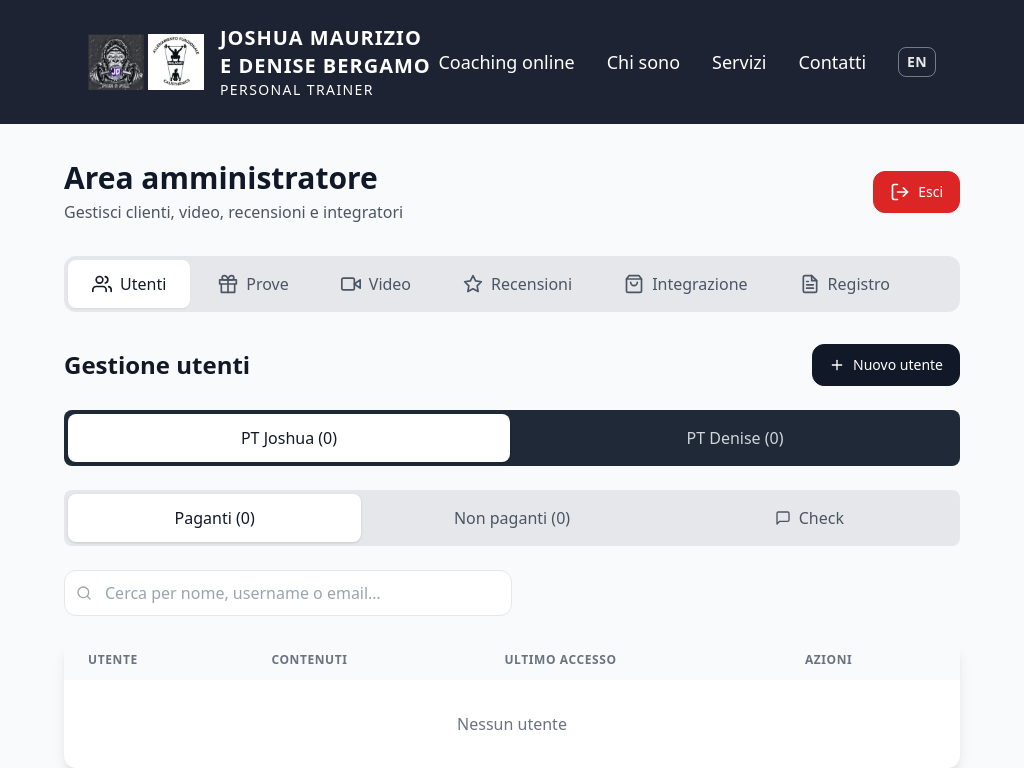
Test: AdminPage — users › creates a user and copies the access link
This screenshot has width=1024, height=768.
Click the button "Nuovo utente" at (886, 365), box [812,344,960,386]
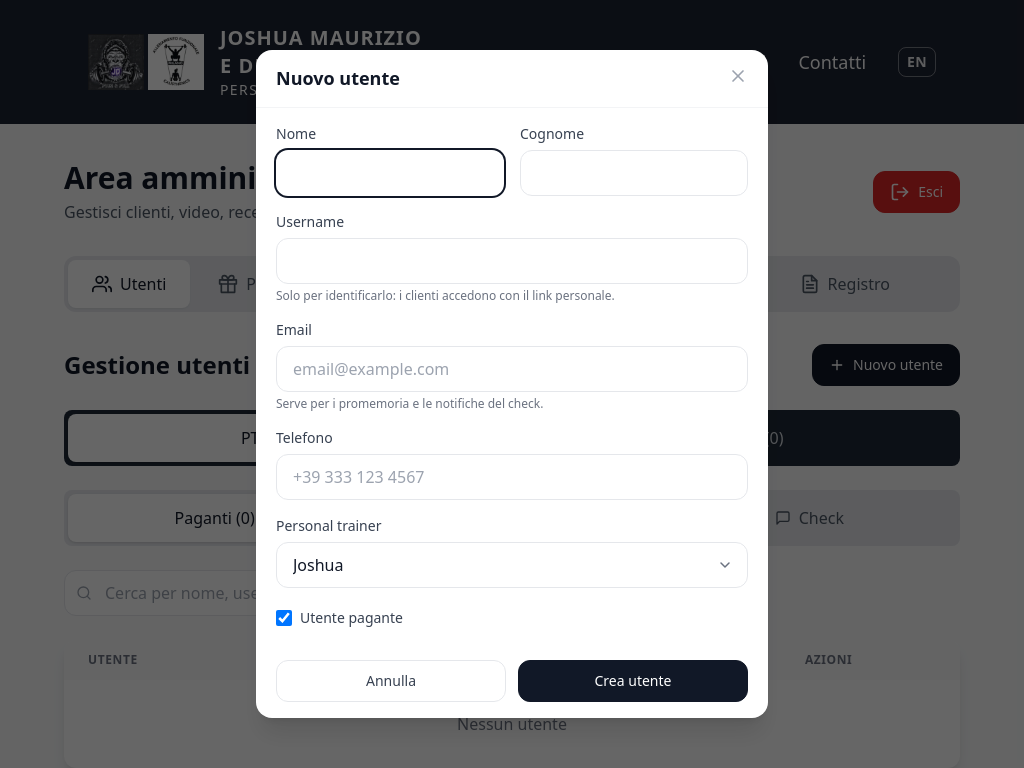
Type " Giulia " into the field labelled "Nome" at (390, 173), box [276,150,504,196]
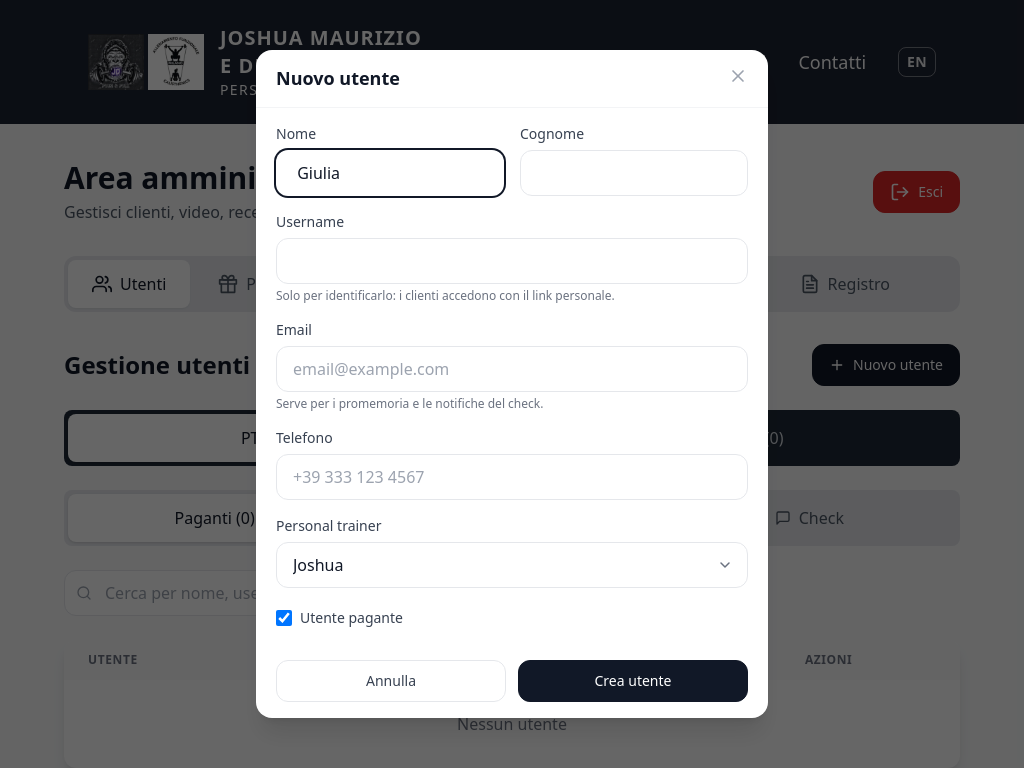
Type "Neri" into the field labelled "Cognome" at (634, 173), box [520,150,748,196]
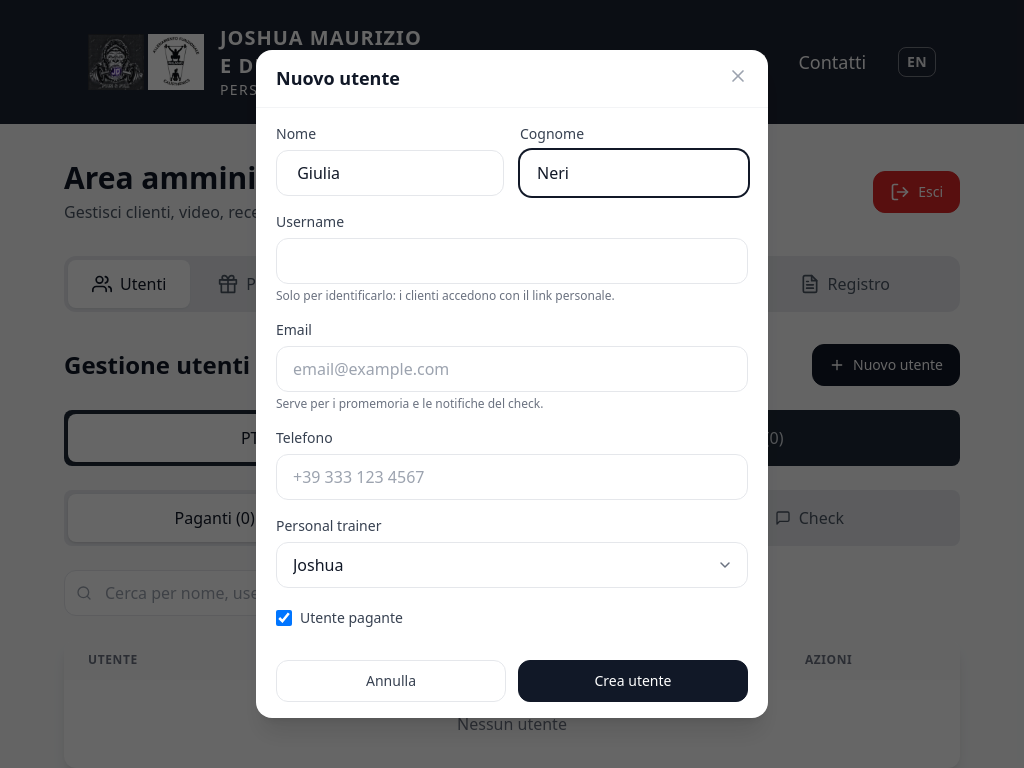
Type "gneri" into the field labelled "Username" at (512, 261), box [276,238,748,284]
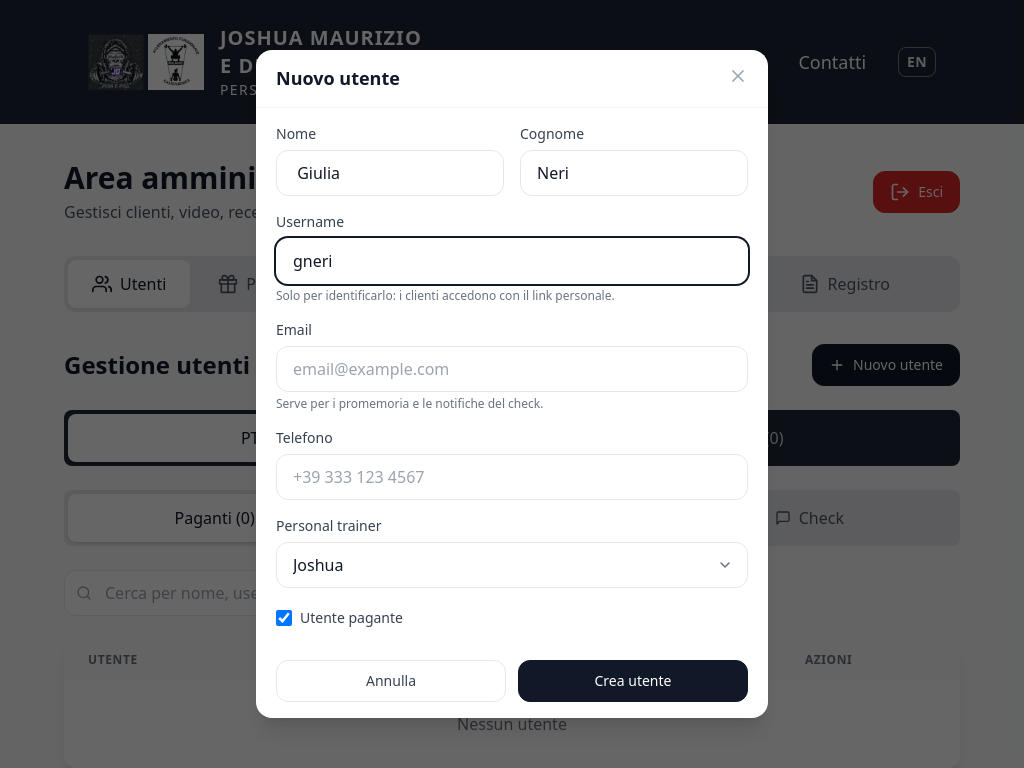
Click the button "Crea utente" at (633, 681), box [518,660,748,702]
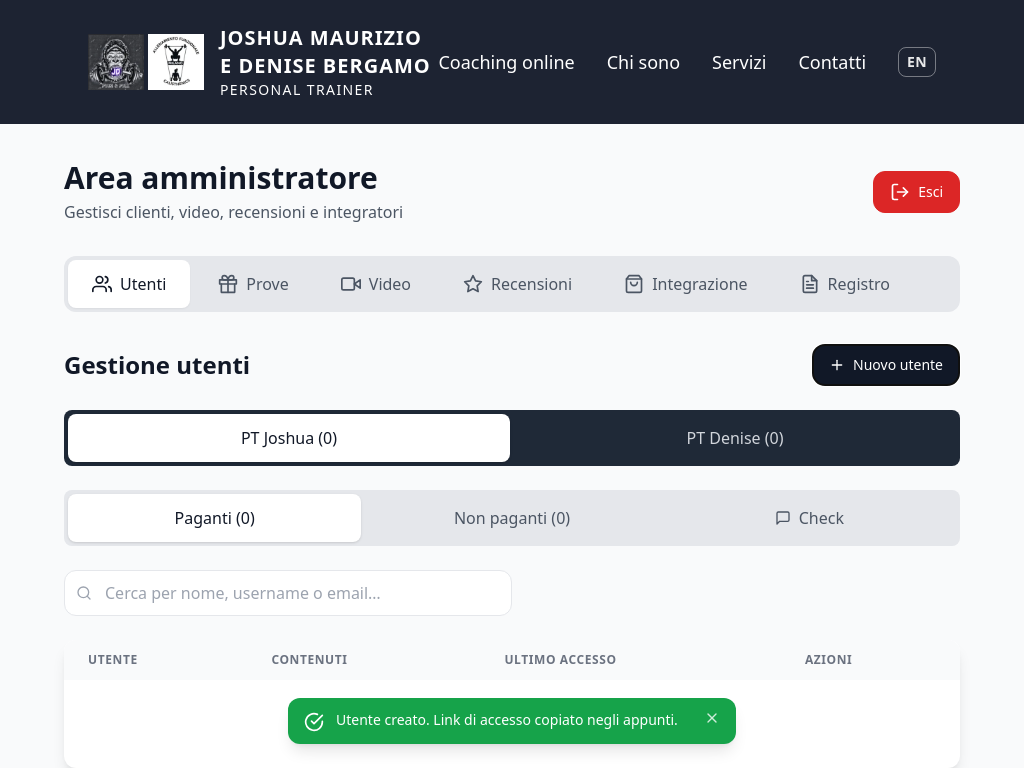
Check: the text "Utente creato. Link di accesso copiato negli appunti." is shown, box [336,710,692,730]
